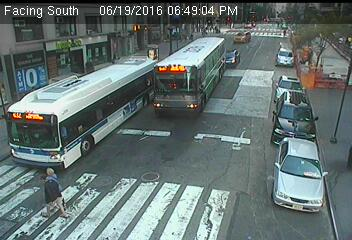neg: (42, 112, 72, 154), (178, 67, 203, 100)
pos: (26, 161, 71, 222)
